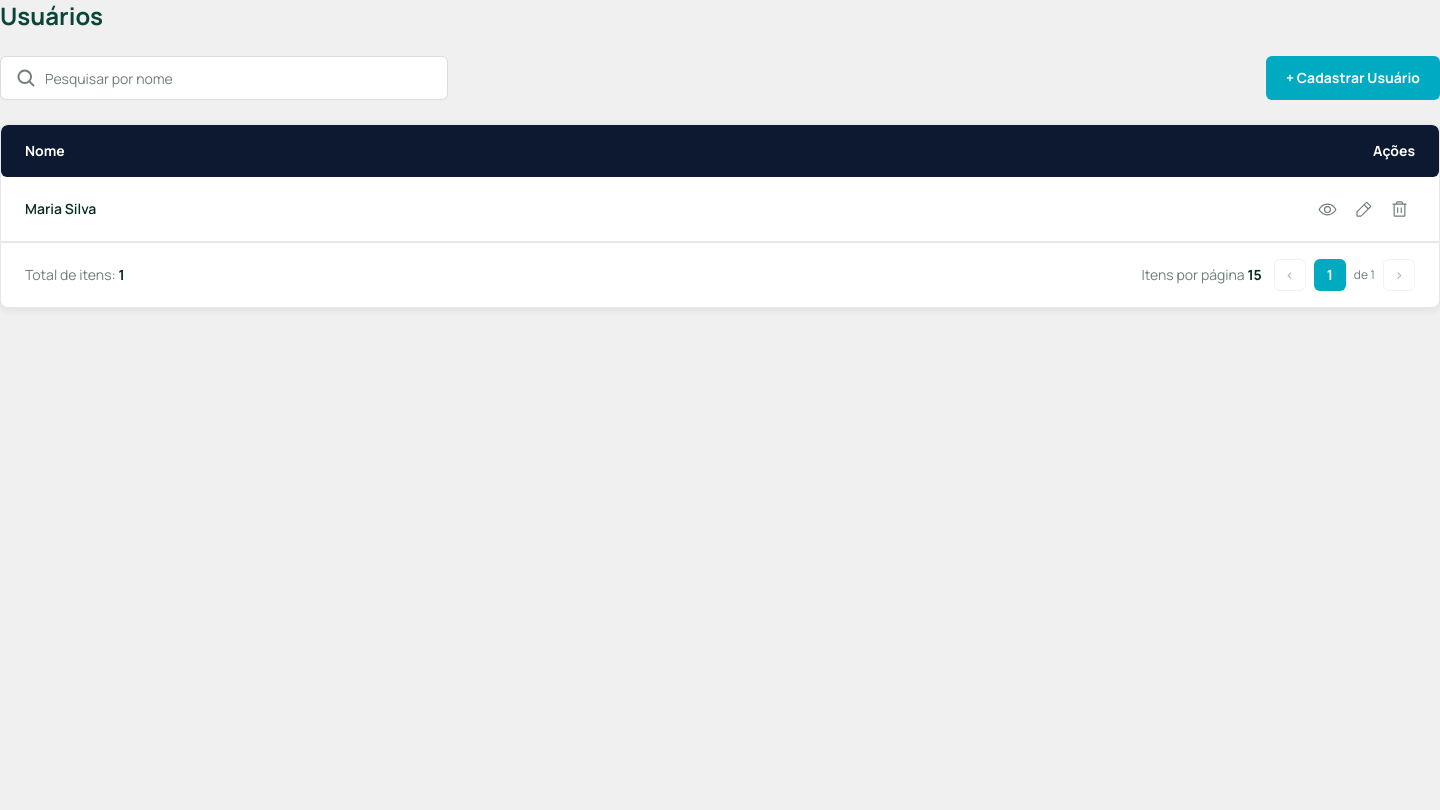
Test: user deletion › opens an accessible confirmation dialog for the selected user
Expected: the text "Maria Silva" is shown, x1=1 y1=177 x2=1287 y2=242
Click the button named "Excluir usuário". click: point(1399, 209)
box: x1=1383 y1=193 x2=1415 y2=225
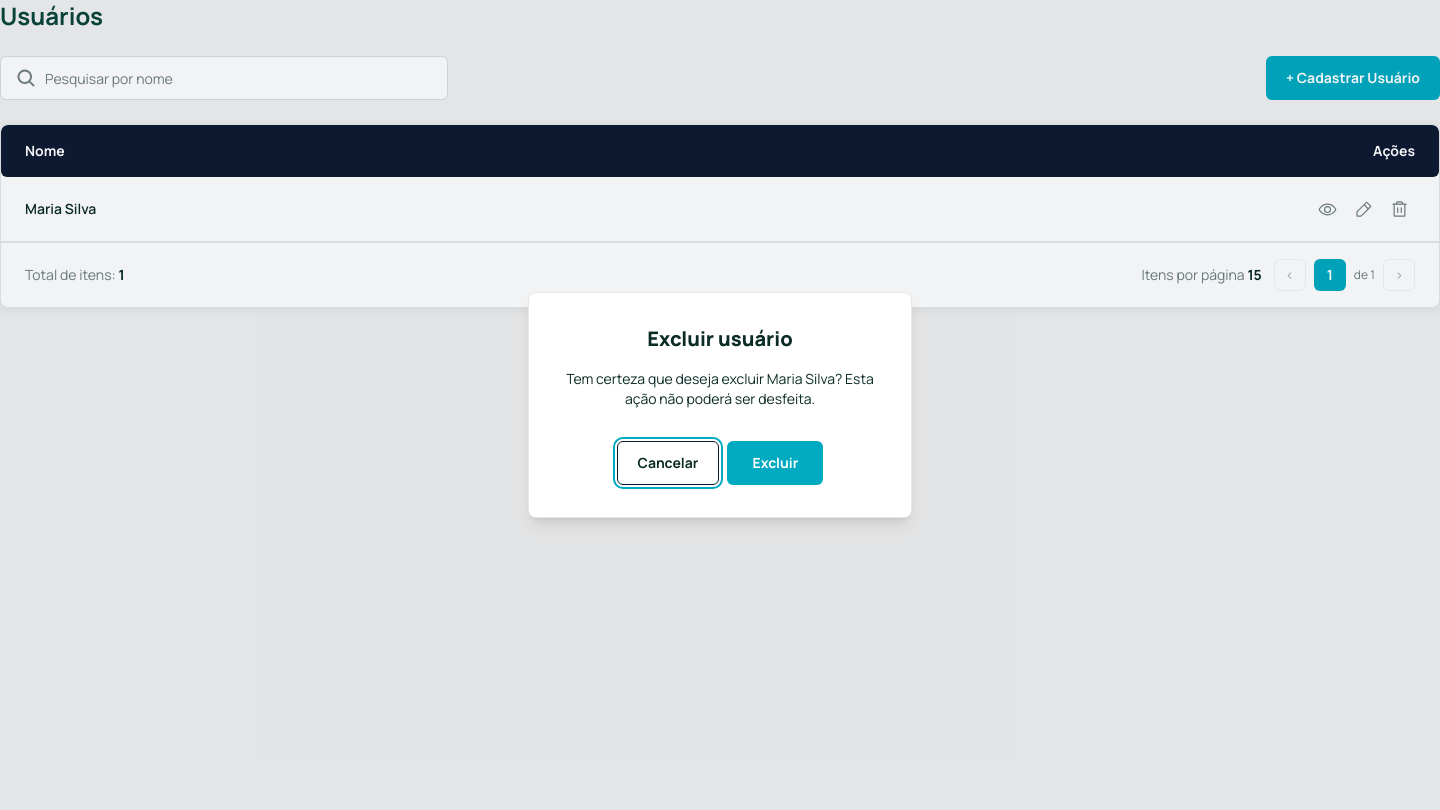
Now the dialog shows "Maria Silva", box x1=566 y1=369 x2=874 y2=408
